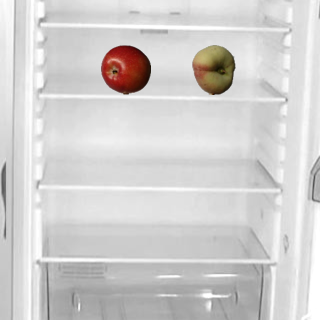Apple Braeburn: (100, 44, 150, 94)
Peach Flat: (188, 44, 238, 94)
